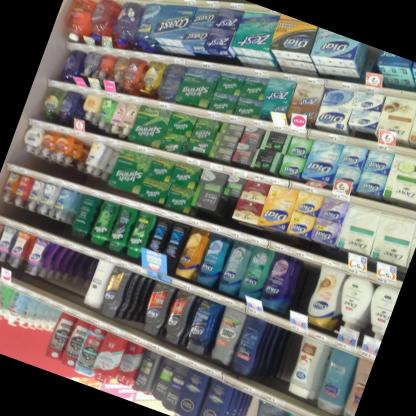empty_space: (293, 257, 322, 311), (274, 323, 300, 383)
